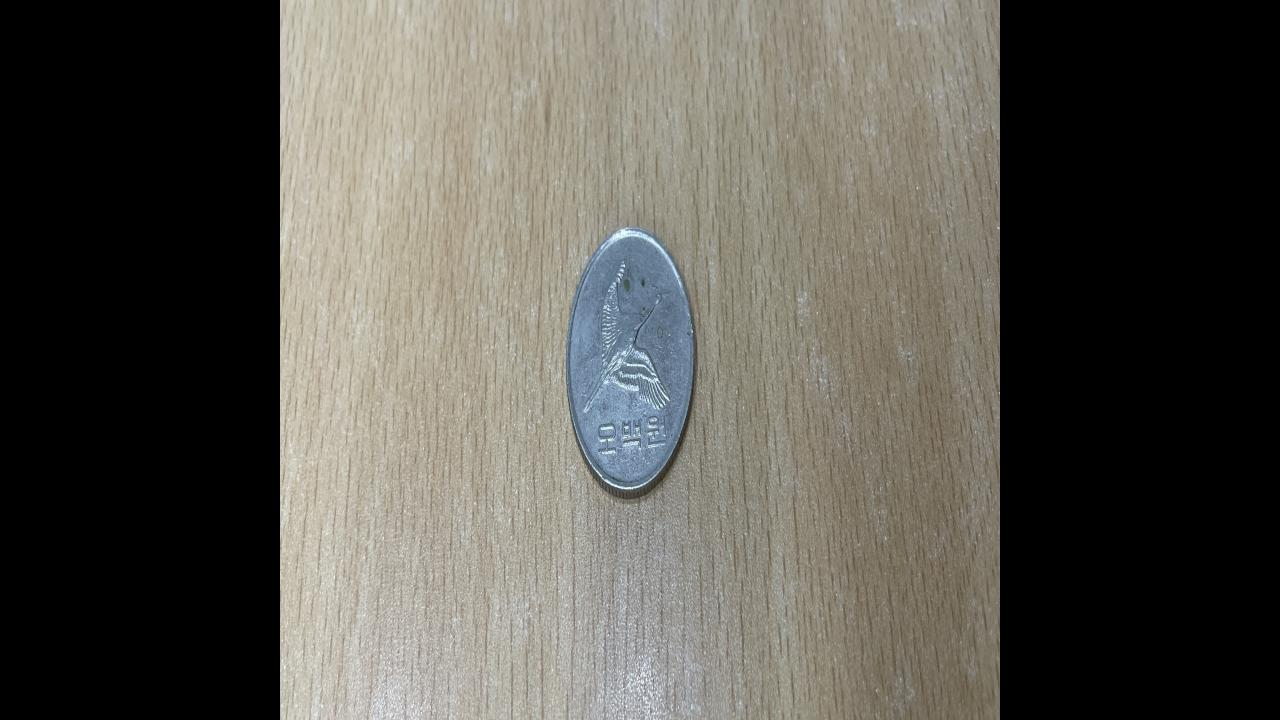coin: (563, 215, 696, 506)
